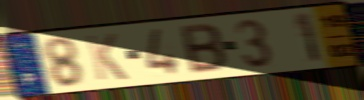1: (293, 10, 323, 66)
3: (234, 17, 277, 71)
4: (145, 26, 182, 78)
8: (39, 35, 85, 89)
B: (178, 22, 229, 76)
K: (83, 32, 130, 82)
